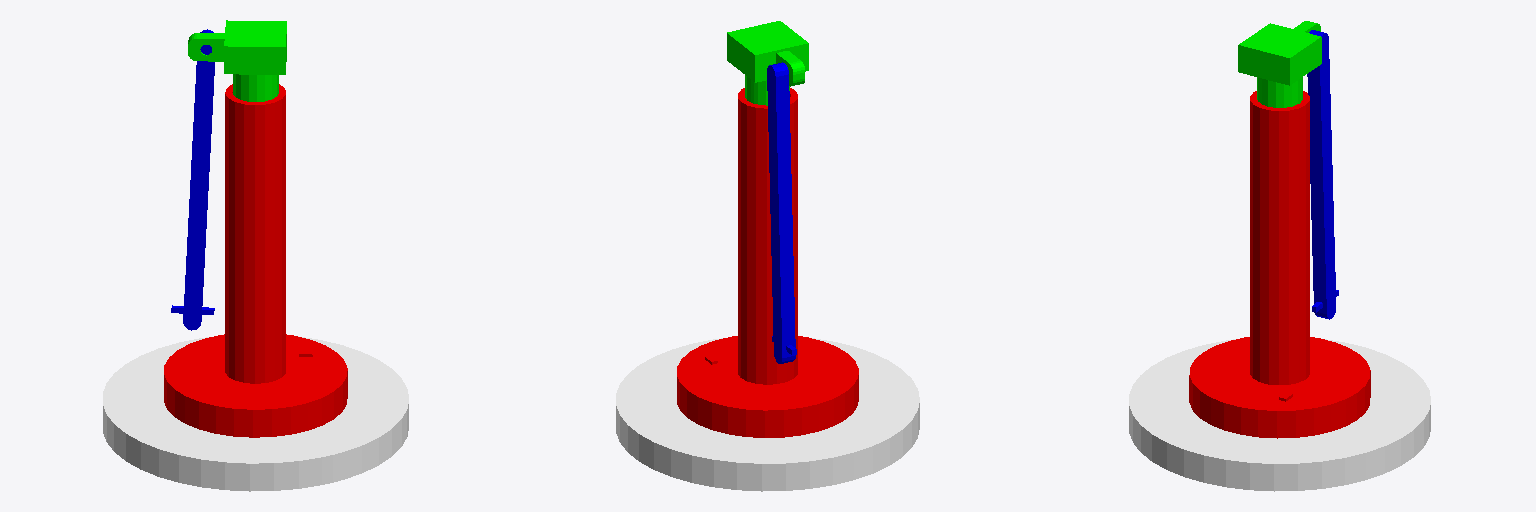
robot.urdf — mini:
<?xml version="1.0" encoding="utf-8"?>
<!-- This URDF was automatically created by SolidWorks to URDF Exporter! Originally created by [author] ([email redacted]) 
     Commit Version: 1.5.1-0-g916b5db  Build Version: 1.5.7152.31018
     For more information, please see http://wiki.ros.org/sw_urdf_exporter -->
<robot
  name="mini">
  <link
    name="base_link">
    <inertial>
      <origin
        xyz="0.499980507238527 0.518319017270569 0.669888048576286"
        rpy="0 0 0" />
      <mass
        value="79.3945245858017" />
      <inertia
        ixx="4.98393702962181"
        ixy="-2.9617976302614E-33"
        ixz="-1.91973510039815E-32"
        iyy="9.8186397110035"
        iyz="6.66032347857268E-18"
        izz="4.98393702962181" />
    </inertial>
    <visual>
      <origin
        xyz="0 0 0"
        rpy="0 0 0" />
      <geometry>
        <mesh
          filename="package://mini/meshes/base_link.STL" />
      </geometry>
      <material
        name="">
        <color
          rgba="1 1 1 1" />
      </material>
    </visual>
    <collision>
      <origin
        xyz="0 0 0"
        rpy="0 0 0" />
      <geometry>
        <mesh
          filename="package://mini/meshes/base_link.STL" />
      </geometry>
    </collision>
  </link>
  <link
    name="link_1">
    <inertial>
      <origin
        xyz="-4.25969318993413E-05 0.224826071187159 3.28927082689501E-05"
        rpy="0 0 0" />
      <mass
        value="42.4032183306581" />
      <inertia
        ixx="4.50890897419026"
        ixy="-0.000216435482029487"
        ixz="0.000222425633858769"
        iyy="1.38090817253925"
        iyz="0.000167128214450565"
        izz="4.50902659526784" />
    </inertial>
    <visual>
      <origin
        xyz="0 0 0"
        rpy="0 0 0" />
      <geometry>
        <mesh
          filename="package://mini/meshes/link_1.STL" />
      </geometry>
      <material
        name="">
        <color
          rgba="1 0 0 1" />
      </material>
    </visual>
    <collision>
      <origin
        xyz="0 0 0"
        rpy="0 0 0" />
      <geometry>
        <mesh
          filename="package://mini/meshes/link_1.STL" />
      </geometry>
    </collision>
  </link>
  <joint
    name="joint_1"
    type="continuous">
    <origin
      xyz="0.49998 -0.66989 0.56724"
      rpy="1.5708 0 2.5869" />
    <parent
      link="base_link" />
    <child
      link="link_1" />
    <axis
      xyz="0 1 0" />
  </joint>
  <link
    name="link_2">
    <inertial>
      <origin
        xyz="0.00234054243470116 0.614121152538813 0.00115252558685575"
        rpy="0 0 0" />
      <mass
        value="22.2162056295846" />
      <inertia
        ixx="2.00259698352658"
        ixy="0.000148868031599843"
        ixz="-0.00330095740243373"
        iyy="0.0853174620868143"
        iyz="7.33053214245923E-05"
        izz="2.00767509777209" />
    </inertial>
    <visual>
      <origin
        xyz="0 0 0"
        rpy="0 0 0" />
      <geometry>
        <mesh
          filename="package://mini/meshes/link_2.STL" />
      </geometry>
      <material
        name="">
        <color
          rgba="0 1 0 1" />
      </material>
    </visual>
    <collision>
      <origin
        xyz="0 0 0"
        rpy="0 0 0" />
      <geometry>
        <mesh
          filename="package://mini/meshes/link_2.STL" />
      </geometry>
    </collision>
  </link>
  <joint
    name="joint_2"
    type="prismatic">
    <origin
      xyz="0 0.2 0"
      rpy="0 0.45756 0" />
    <parent
      link="link_1" />
    <child
      link="link_2" />
    <axis
      xyz="0 1 0" />
    <limit
      lower="0"
      upper="0.6"
      effort="0"
      velocity="0" />
  </joint>
  <link
    name="link_3">
    <inertial>
      <origin
        xyz="0.49626268326458 1.11022302462516E-14 -0.0467611865906726"
        rpy="0 0 0" />
      <mass
        value="3.21955301286421" />
      <inertia
        ixx="0.00177249521836656"
        ixy="1.14898325229151E-16"
        ixz="0.00112526464080107"
        iyy="0.306611778263444"
        iyz="0"
        izz="0.306859976927379" />
    </inertial>
    <visual>
      <origin
        xyz="0 0 0"
        rpy="0 0 0" />
      <geometry>
        <mesh
          filename="package://mini/meshes/link_3.STL" />
      </geometry>
      <material
        name="">
        <color
          rgba="0 0 1 1" />
      </material>
    </visual>
    <collision>
      <origin
        xyz="0 0 0"
        rpy="0 0 0" />
      <geometry>
        <mesh
          filename="package://mini/meshes/link_3.STL" />
      </geometry>
    </collision>
  </link>
  <joint
    name="joint_3"
    type="continuous">
    <origin
      xyz="0.14354 1.06 0.070682"
      rpy="-2.6845 -0.020927 -1.5283" />
    <parent
      link="link_2" />
    <child
      link="link_3" />
    <axis
      xyz="0 0 1" />
  </joint>
</robot>

--- Render facts (derived) ---
Views: 3 orthographic renders of the robot side by side, from view 1: azimuth 30°, elevation 25°; view 2: azimuth 150°, elevation 25°; view 3: azimuth 270°, elevation 25°.
Model mini with 4 links and 3 joints (2 continuous, 1 prismatic), rooted at base_link, posed every joint at zero.
Visible links, largest first — view 1: link_1, base_link, link_2, link_3; view 2: link_1, base_link, link_3, link_2; view 3: link_1, base_link, link_3, link_2.
Boxes of the visible links, <box> form: link_1: <box>164,84,347,437</box>; base_link: <box>103,336,408,491</box>; link_2: <box>188,20,286,101</box>; link_3: <box>171,29,214,330</box>; link_1: <box>677,88,858,437</box>; base_link: <box>616,338,919,491</box>; link_3: <box>767,62,796,363</box>; link_2: <box>727,21,808,105</box>; link_1: <box>1189,91,1370,438</box>; base_link: <box>1129,339,1430,491</box>; link_3: <box>1307,30,1338,319</box>; link_2: <box>1238,21,1321,107</box>.
Size in the robot's own frame: 0.9992 by 1 by 1.41 metres.
Meshes: 4 distinct files referenced, 4 mesh visuals loaded (4 binary STL).
